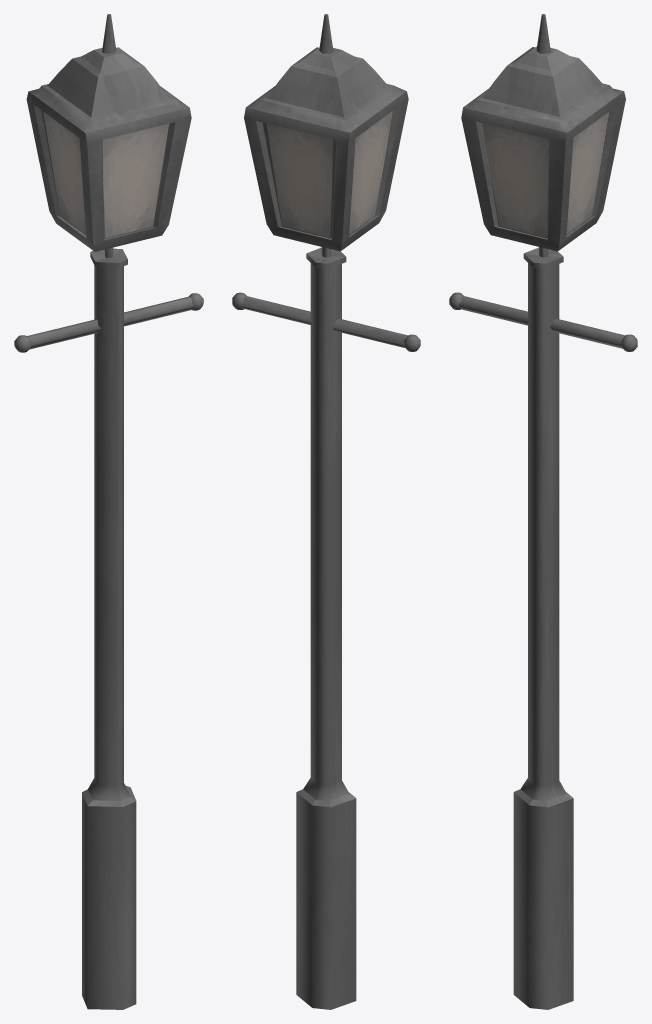
Rendered from 3dmodel_lamppost_v1_bs.fbx.
The picture shows the model from 3 angles, left to right: view 1: azimuth 30°, elevation 25°; view 2: azimuth 150°, elevation 25°; view 3: azimuth 330°, elevation 25°; orthographic projection.
Parts seen in each view (by area): view 1: lamp_post; view 2: lamp_post; view 3: lamp_post.
Boxes of the visible parts, x1,y1,x2,y2 form: lamp_post: (14,14,203,1009); lamp_post: (232,14,420,1009); lamp_post: (449,14,637,1009).
Size of the model in its own units: 2.17 by 11 by 1.22.
